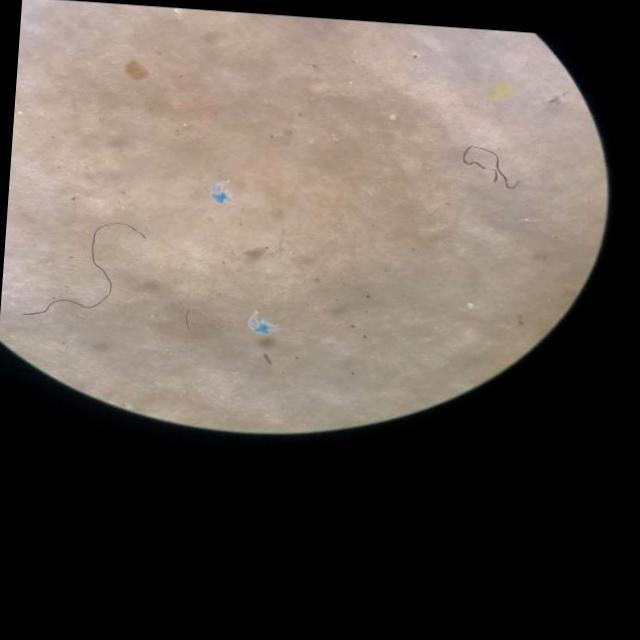fiber: (27, 222, 145, 314), (463, 146, 519, 189)
film: (249, 318, 279, 336), (211, 181, 232, 204)
fragment: (124, 60, 148, 79), (490, 83, 512, 101)
pellet: (467, 302, 475, 309), (389, 114, 396, 120)
